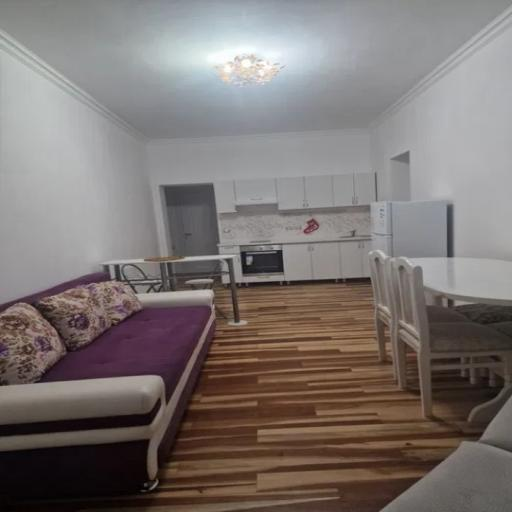bottle: (386, 257, 512, 417), (369, 250, 469, 377)
hole: (0, 274, 216, 499)
phone: (410, 258, 512, 306)
